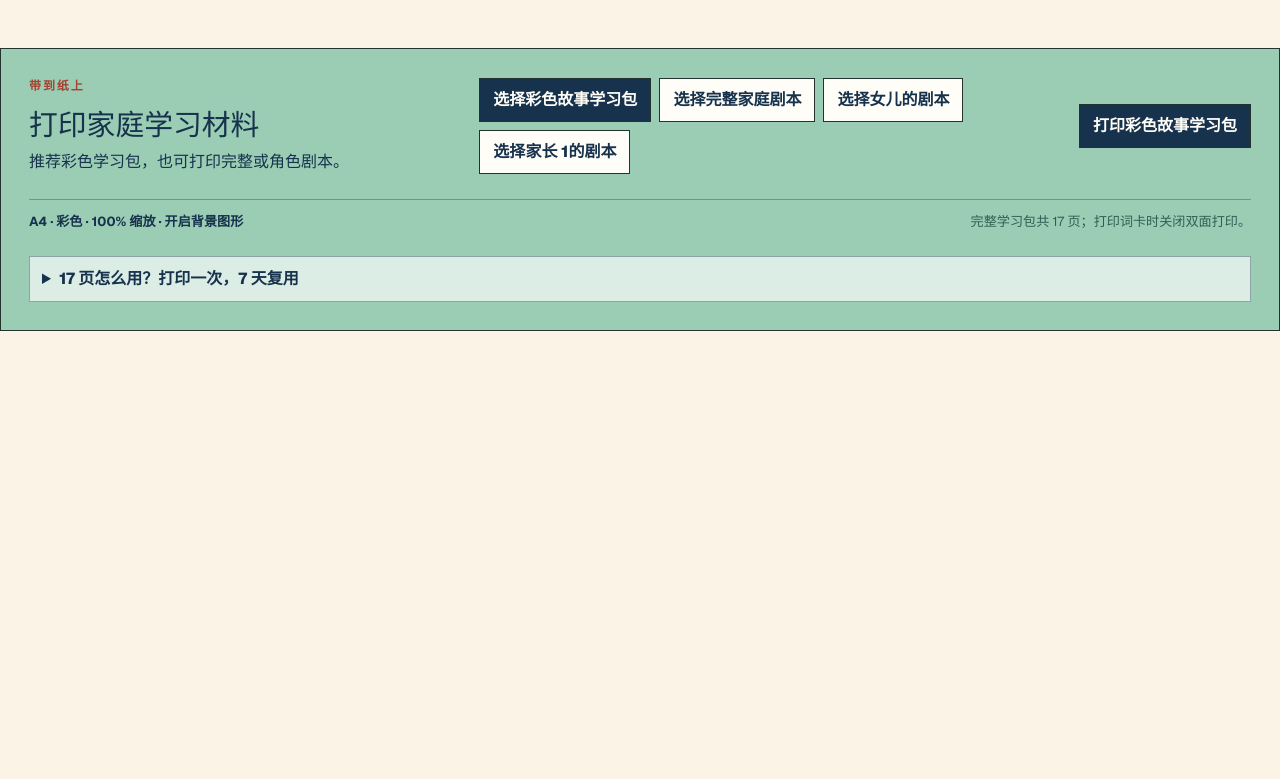
Test: StoryStage family story flow › keeps cue lines and emphasizes only the daughter's roles in her printable script
What coordinates should you click on to do the following:
click the button "选择女儿的剧本"
I would click on:
 (893, 100)
Its box is left=823, top=78, right=963, bottom=122.
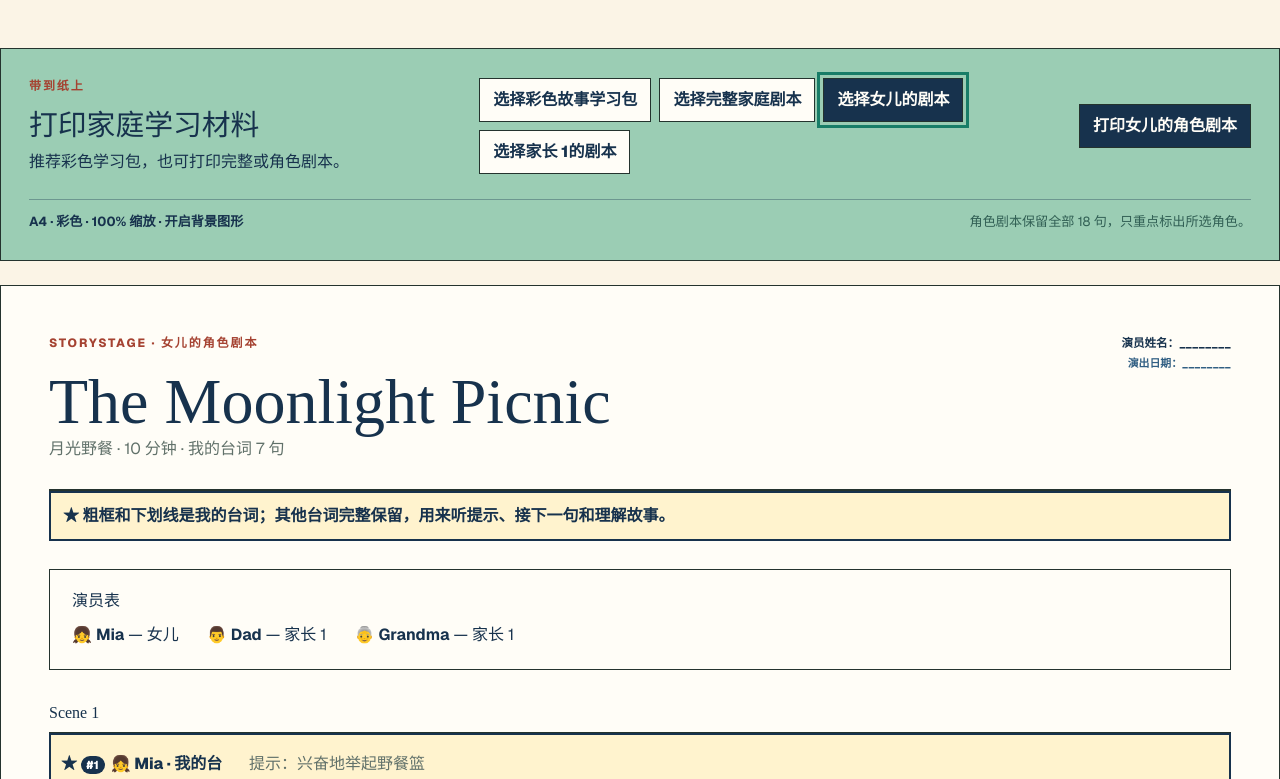
Result: the number of elements with class "is-focus-line" is 7
Result: the element "女儿的角色剧本" shows "粗框和下划线是我的台词" at left=63, top=506, right=674, bottom=526
Result: the element "女儿的角色剧本" shows "其他台词完整保留" at left=63, top=506, right=674, bottom=526
